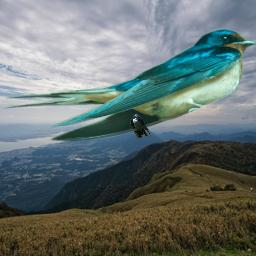Swallow: (1, 28, 256, 143), (130, 114, 151, 139)
